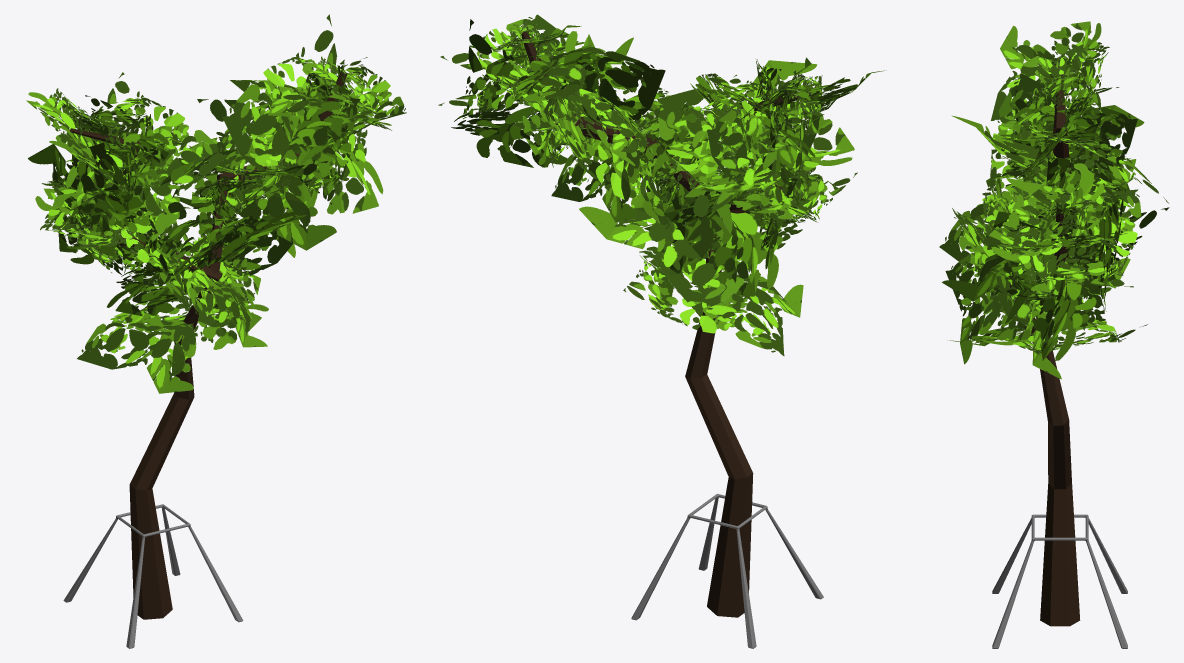
File: Tree_With_Cage.fbx
3 renders of one model, left to right at view 1: azimuth 30°, elevation 25°; view 2: azimuth 150°, elevation 25°; view 3: azimuth 270°, elevation 25°, orthographic. The views are drawn at different scales.
Visible parts, largest first — view 1: tree, tree|Leaf|Dupli|44, tree|Leaf|Dupli|2, tree|Leaf|Dupli|31, tree|Leaf|Dupli|9, tree|Leaf|Dupli|17, tree|Leaf|Dupli|5, tree|Leaf|Dupli|, tree|Leaf|Dupli|29, tree|Leaf|Dupli|23, Treecage, tree|Leaf|Dupli|21 (+15 smaller); view 2: tree, tree|Leaf|Dupli|44, tree|Leaf|Dupli|10, tree|Leaf|Dupli|23, tree|Leaf|Dupli|5, tree|Leaf|Dupli|2, tree|Leaf|Dupli|35, tree|Leaf|Dupli|31, tree|Leaf|Dupli|43, tree|Leaf|Dupli|13, Treecage, tree|Leaf|Dupli|40 (+11 smaller); view 3: tree, tree|Leaf|Dupli|44, tree|Leaf|Dupli|43, tree|Leaf|Dupli|21, tree|Leaf|Dupli|13, tree|Leaf|Dupli|, tree|Leaf|Dupli|39, tree|Leaf|Dupli|10, Treecage, tree|Leaf|Dupli|20, tree|Leaf|Dupli|17, tree|Leaf|Dupli|5 (+13 smaller).
Part boxes in pixels (<box>): tree: <box>70,72,346,619</box>; tree|Leaf|Dupli|44: <box>222,14,383,257</box>; tree|Leaf|Dupli|2: <box>77,268,268,393</box>; tree|Leaf|Dupli|31: <box>197,87,342,251</box>; tree|Leaf|Dupli|9: <box>66,72,228,240</box>; tree|Leaf|Dupli|17: <box>28,142,173,275</box>; tree|Leaf|Dupli|5: <box>107,189,293,327</box>; tree|Leaf|Dupli|: <box>173,222,267,347</box>; tree|Leaf|Dupli|29: <box>179,108,297,217</box>; tree|Leaf|Dupli|23: <box>140,210,306,311</box>; Treecage: <box>63,504,243,648</box>; tree|Leaf|Dupli|21: <box>26,88,126,193</box>; tree: <box>520,31,811,617</box>; tree|Leaf|Dupli|44: <box>451,19,665,186</box>; tree|Leaf|Dupli|10: <box>657,60,854,226</box>; tree|Leaf|Dupli|23: <box>579,102,837,316</box>; tree|Leaf|Dupli|5: <box>642,136,802,305</box>; tree|Leaf|Dupli|2: <box>623,241,803,356</box>; tree|Leaf|Dupli|35: <box>551,72,696,222</box>; tree|Leaf|Dupli|31: <box>541,31,672,232</box>; tree|Leaf|Dupli|43: <box>438,28,633,111</box>; tree|Leaf|Dupli|13: <box>707,70,800,233</box>; Treecage: <box>631,493,823,648</box>; tree|Leaf|Dupli|40: <box>440,14,625,131</box>; tree: <box>1005,65,1080,626</box>; tree|Leaf|Dupli|44: <box>1005,157,1125,360</box>; tree|Leaf|Dupli|43: <box>989,178,1141,287</box>; tree|Leaf|Dupli|21: <box>990,21,1109,127</box>; tree|Leaf|Dupli|13: <box>1009,89,1137,212</box>; tree|Leaf|Dupli|: <box>945,253,1056,364</box>; tree|Leaf|Dupli|39: <box>1011,187,1091,255</box>; tree|Leaf|Dupli|10: <box>951,115,1169,203</box>; Treecage: <box>992,514,1127,648</box>; tree|Leaf|Dupli|20: <box>1012,52,1100,179</box>; tree|Leaf|Dupli|17: <box>958,73,1144,223</box>; tree|Leaf|Dupli|5: <box>983,154,1066,379</box>.
Bounding box in the file's own units: 337 × 444 × 179.
